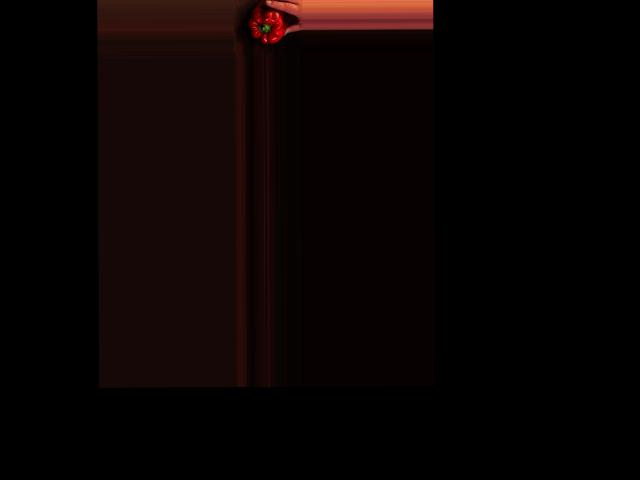bell_pepper: (246, 1, 288, 45)
